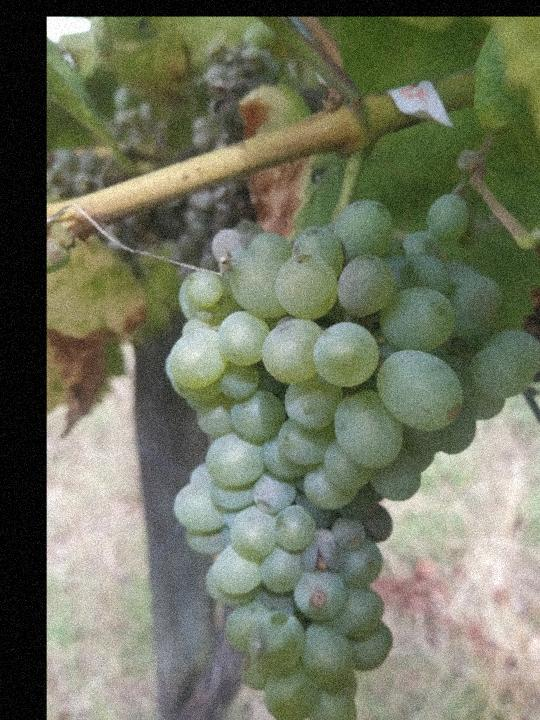grape: (161, 192, 540, 720)
